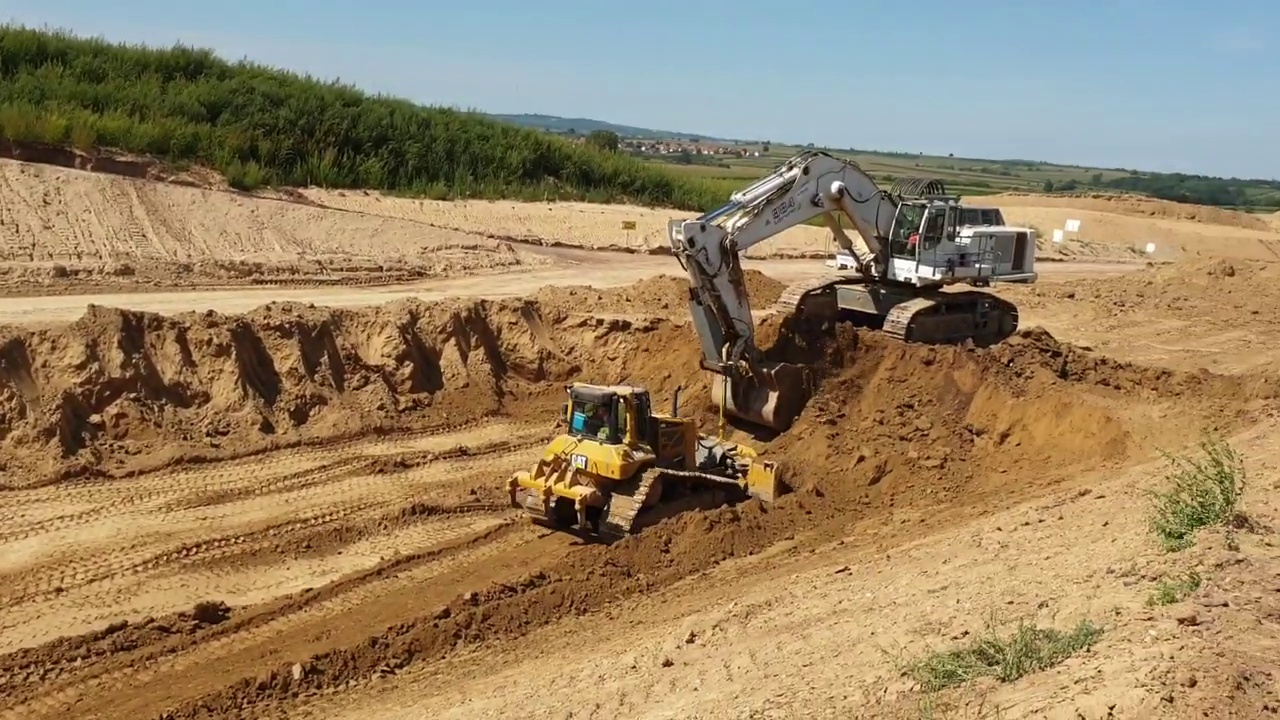bulldozer: (501, 378, 788, 545)
excavator: (664, 147, 1043, 437)
